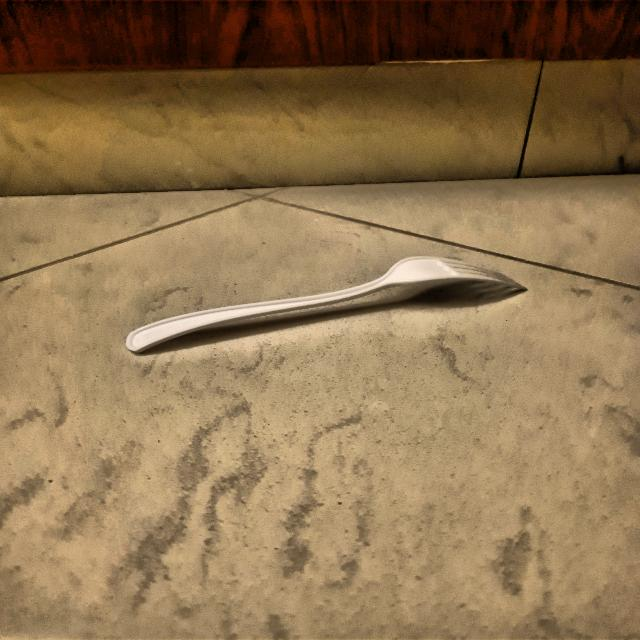plastic utensil: (121, 252, 526, 360)
